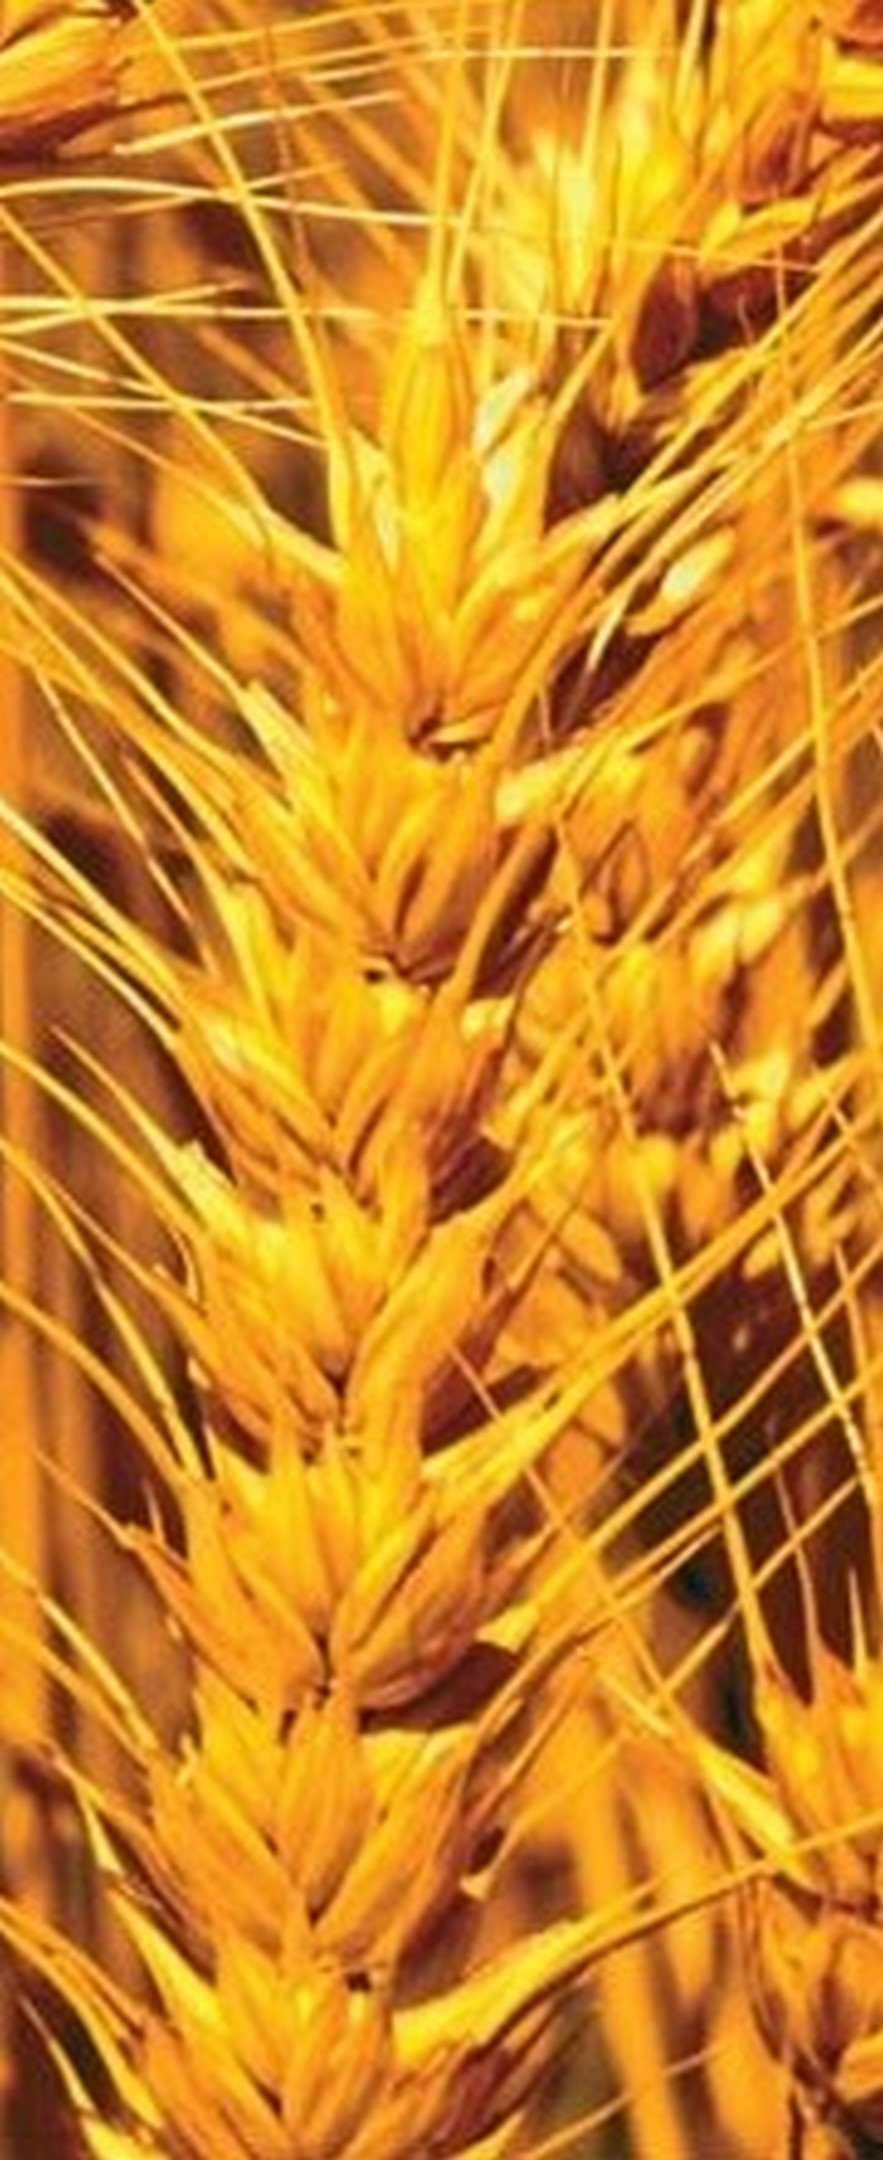Healthy Wheat: (114, 107, 707, 2108)
